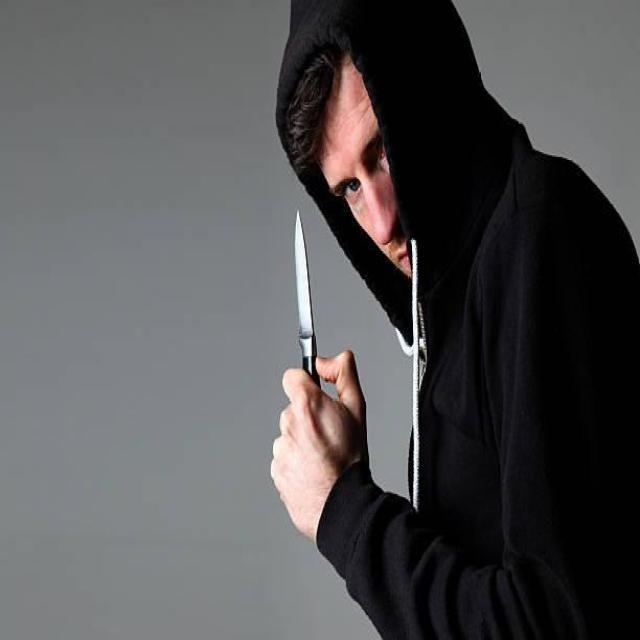faca: (260, 194, 376, 536)
